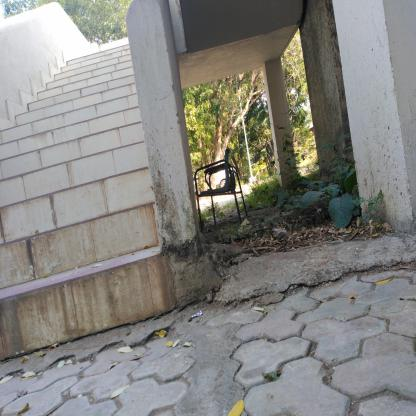stairs: (67, 56, 130, 363)
